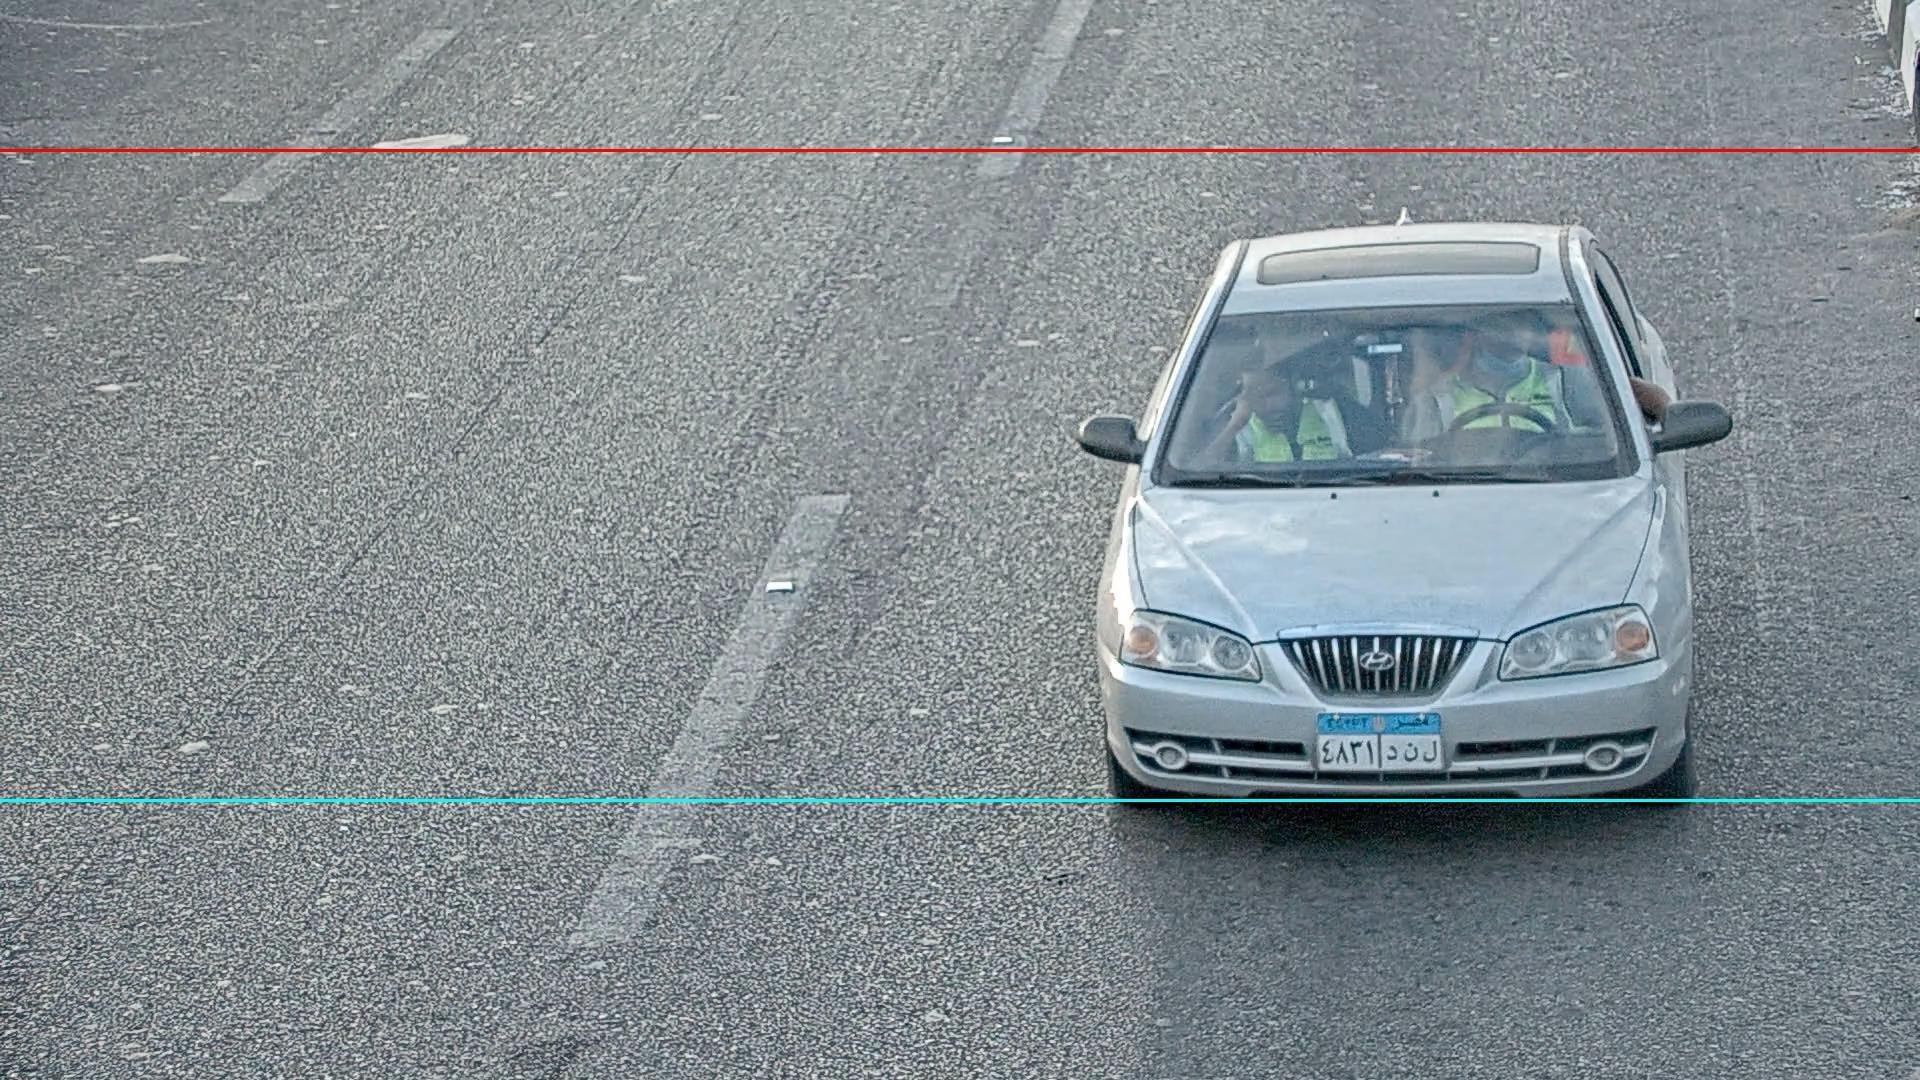windshield: (1150, 266, 1640, 480)
